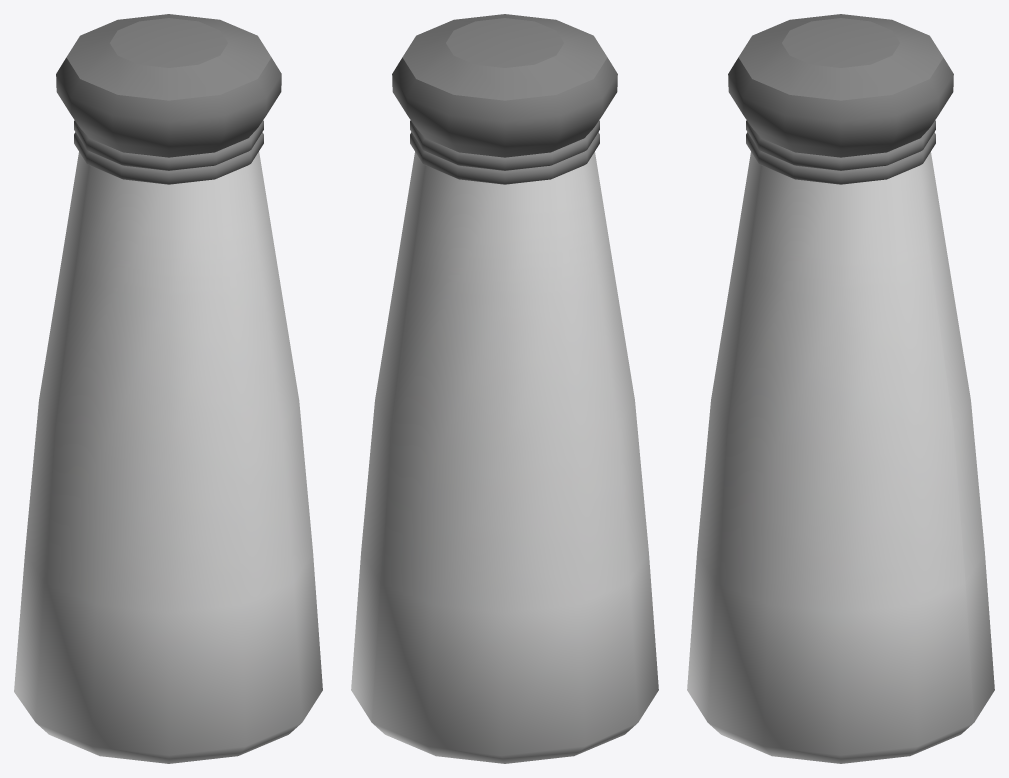
Rendered from Kitchen_Salt.FBX.
3 renders of one model, left to right at view 1: azimuth 30°, elevation 25°; view 2: azimuth 150°, elevation 25°; view 3: azimuth 270°, elevation 25°, orthographic.
Parts seen in each view (by area): view 1: Pepper; view 2: Pepper; view 3: Pepper.
Boxes of the visible parts, x1,y1,x2,y2 form: Pepper: (14,14,322,763); Pepper: (351,14,658,763); Pepper: (687,14,994,763).
Size of the model in its own units: 2.29 by 5.47 by 2.29.
